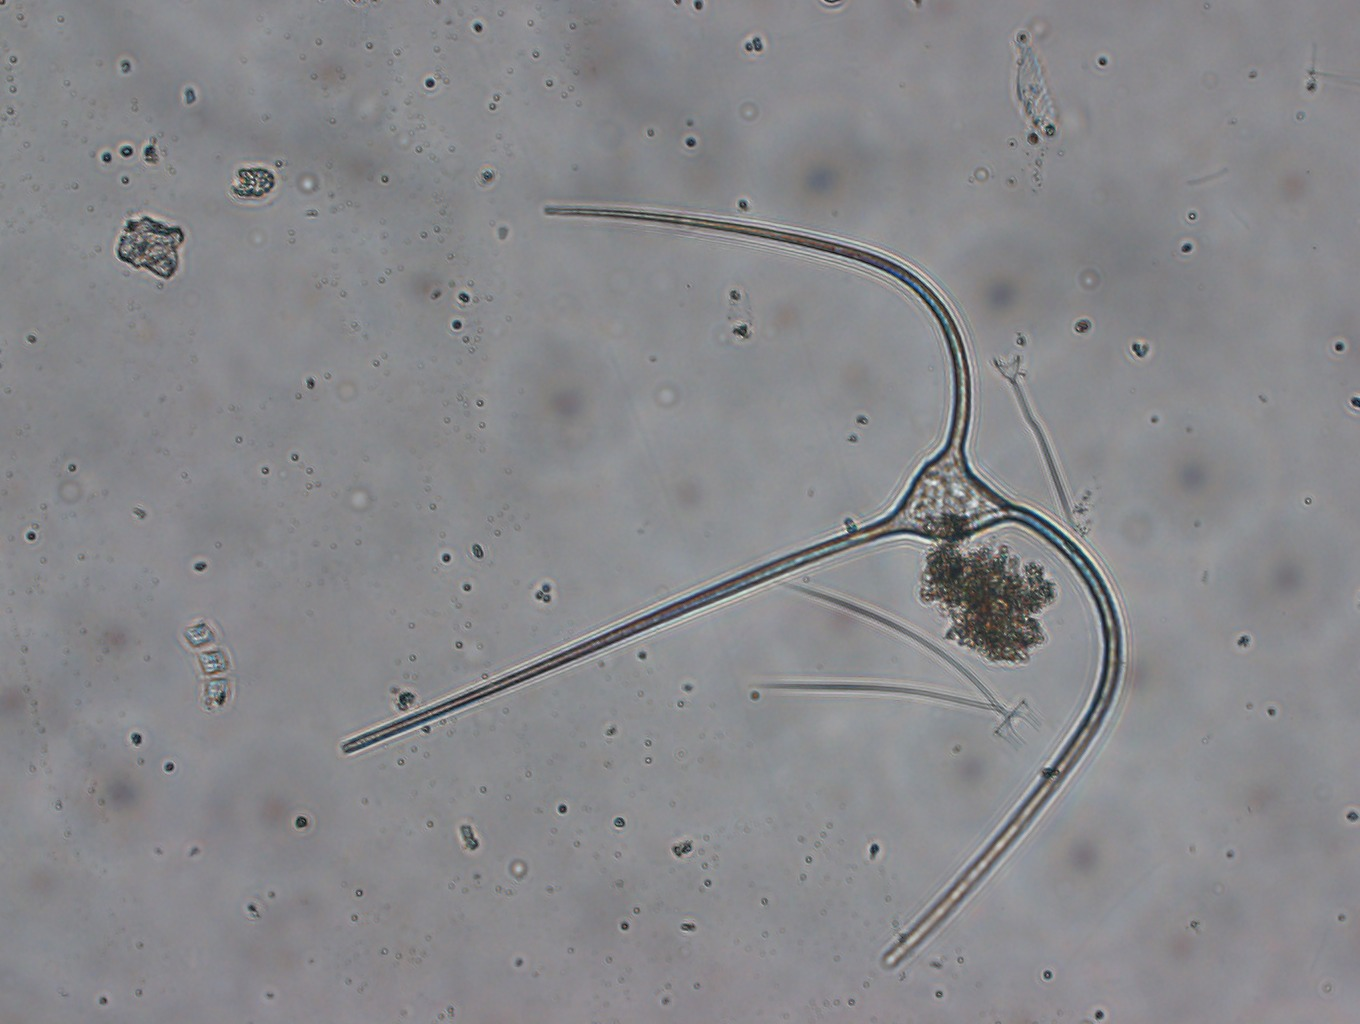ceratium trichoceros: (337, 197, 1130, 975)
